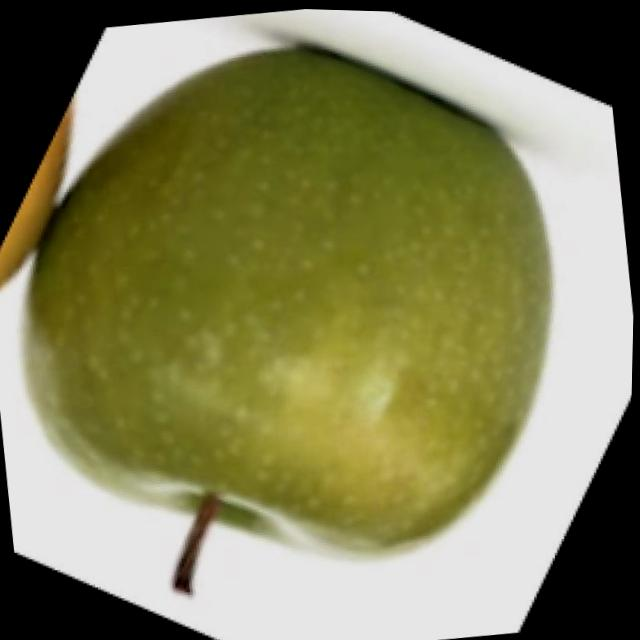Apple: (0, 7, 594, 624)
